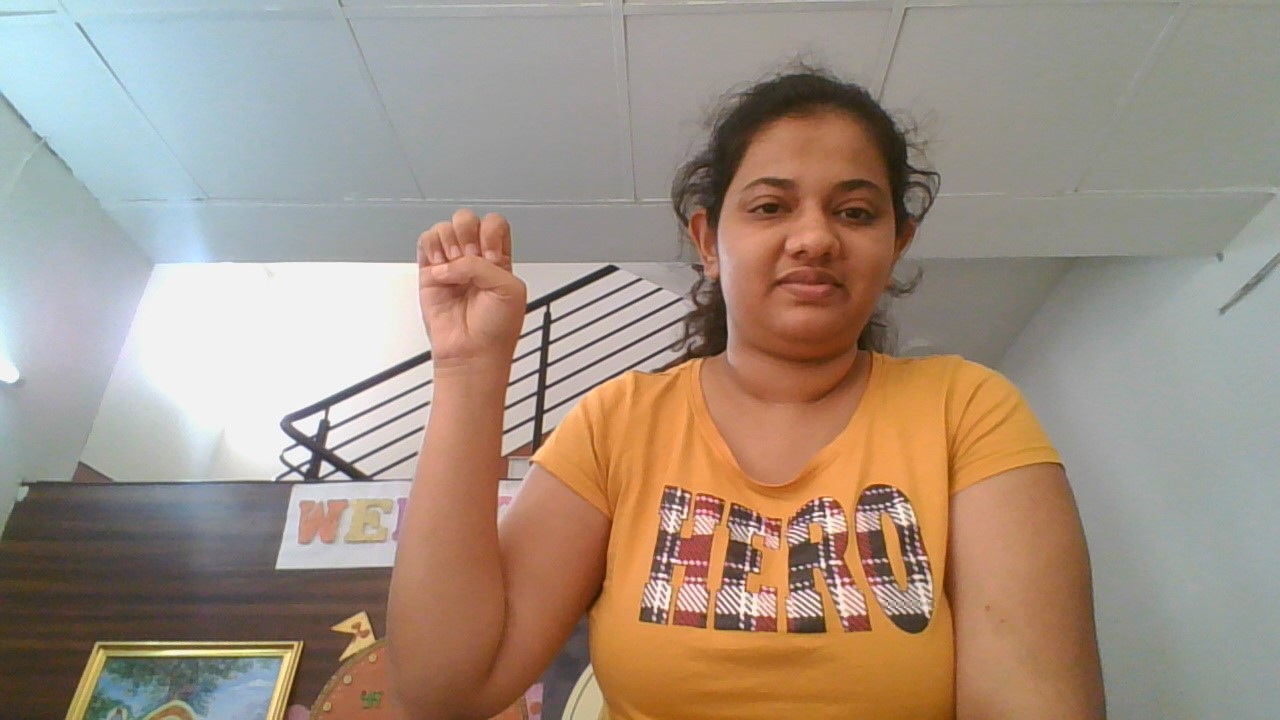e: (380, 197, 558, 377)
